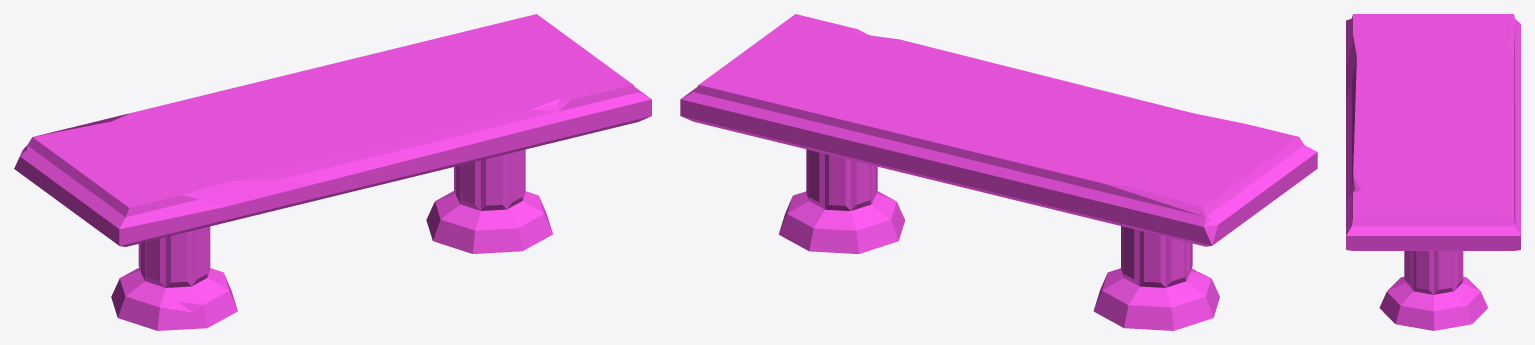
File: SM_Bench_Stone_Fancy_A_Fantasy.fbx
3 renders of one model, left to right at view 1: azimuth 30°, elevation 25°; view 2: azimuth 150°, elevation 25°; view 3: azimuth 270°, elevation 25°, orthographic. The views are drawn at different scales.
Visible parts, largest first — view 1: SM_Bench_Stone_Fancy_A_Fantasy; view 2: SM_Bench_Stone_Fancy_A_Fantasy; view 3: SM_Bench_Stone_Fancy_A_Fantasy.
Boxes of the visible parts, x1,y1,x2,y2 form: SM_Bench_Stone_Fancy_A_Fantasy: [14, 14, 651, 330]; SM_Bench_Stone_Fancy_A_Fantasy: [680, 14, 1317, 330]; SM_Bench_Stone_Fancy_A_Fantasy: [1346, 14, 1520, 330].
Size of the model in its own units: 1.8 by 0.5 by 0.617.
